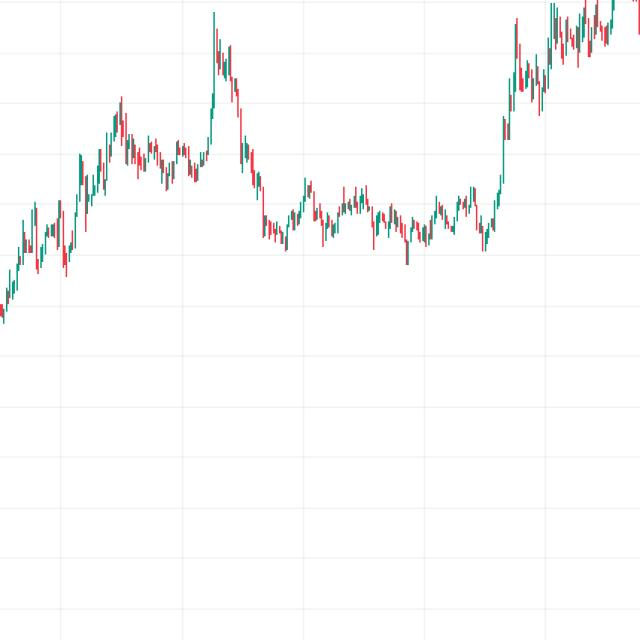rectangle: (244, 169, 515, 271)
